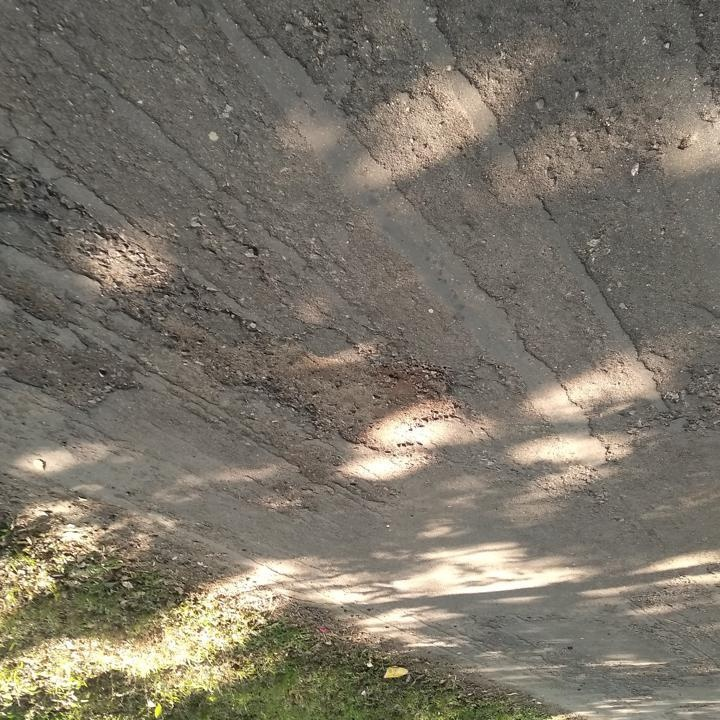pothole: (249, 338, 456, 456), (0, 335, 142, 413)
